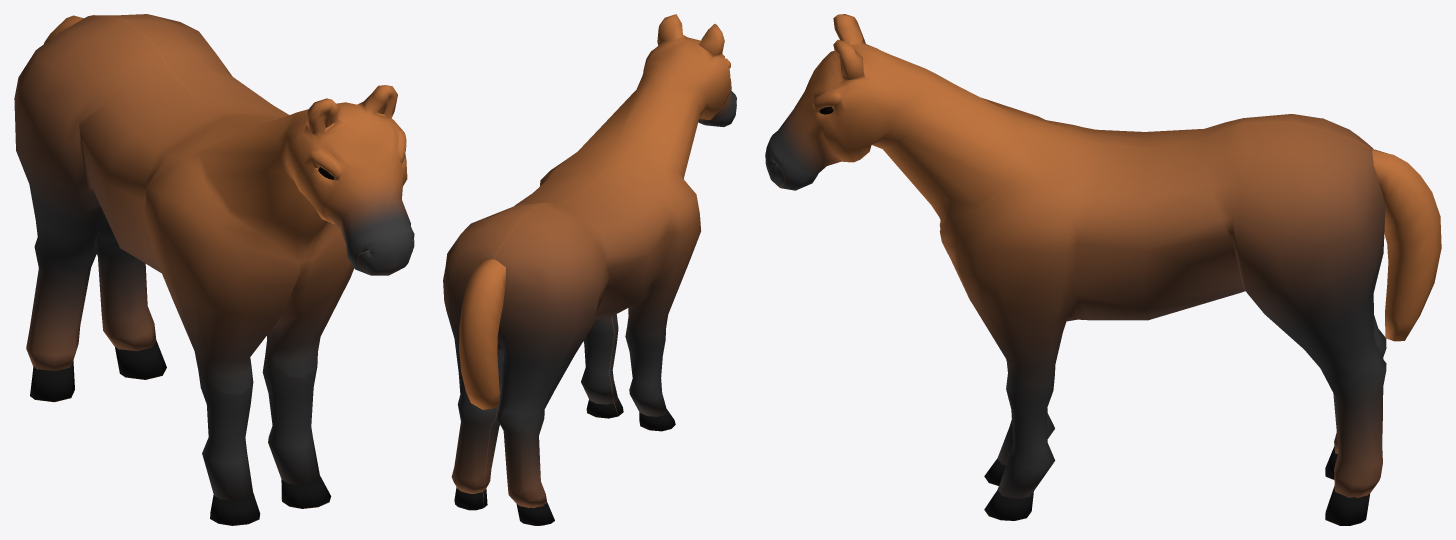
The model's file is horse.fbx.
3 views of the same model, side by side, from view 1: azimuth 30°, elevation 25°; view 2: azimuth 150°, elevation 25°; view 3: azimuth 270°, elevation 25° (orthographic). The views are drawn at different scales.
Parts seen in each view (by area): view 1: horsr; view 2: horsr; view 3: horsr.
Boxes of the visible parts, <box> form: horsr: <box>14,14,414,525</box>; horsr: <box>443,14,736,525</box>; horsr: <box>765,14,1441,525</box>.
Bounding box in the file's own units: 81.61 × 191 × 249.
